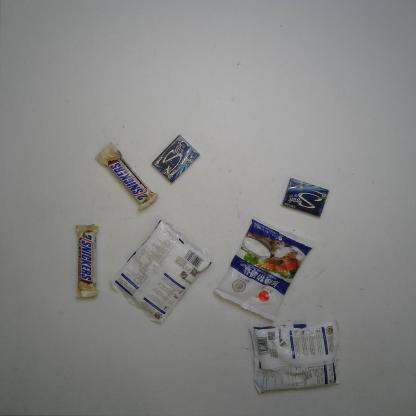Chocolate: (92, 141, 160, 213), (70, 221, 106, 303)
Gum: (150, 134, 202, 185), (280, 177, 331, 219)
Seasoner: (108, 217, 214, 326), (212, 214, 316, 324), (247, 314, 348, 395)
